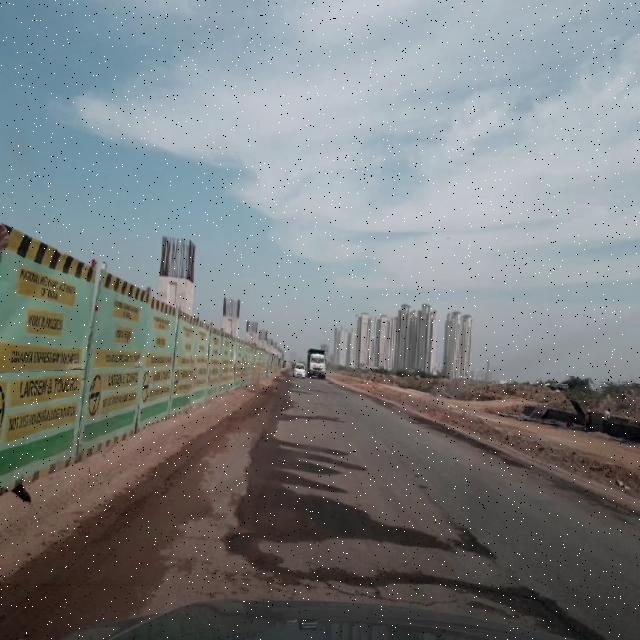D00: (226, 382, 282, 552)
D10: (242, 553, 556, 606)
